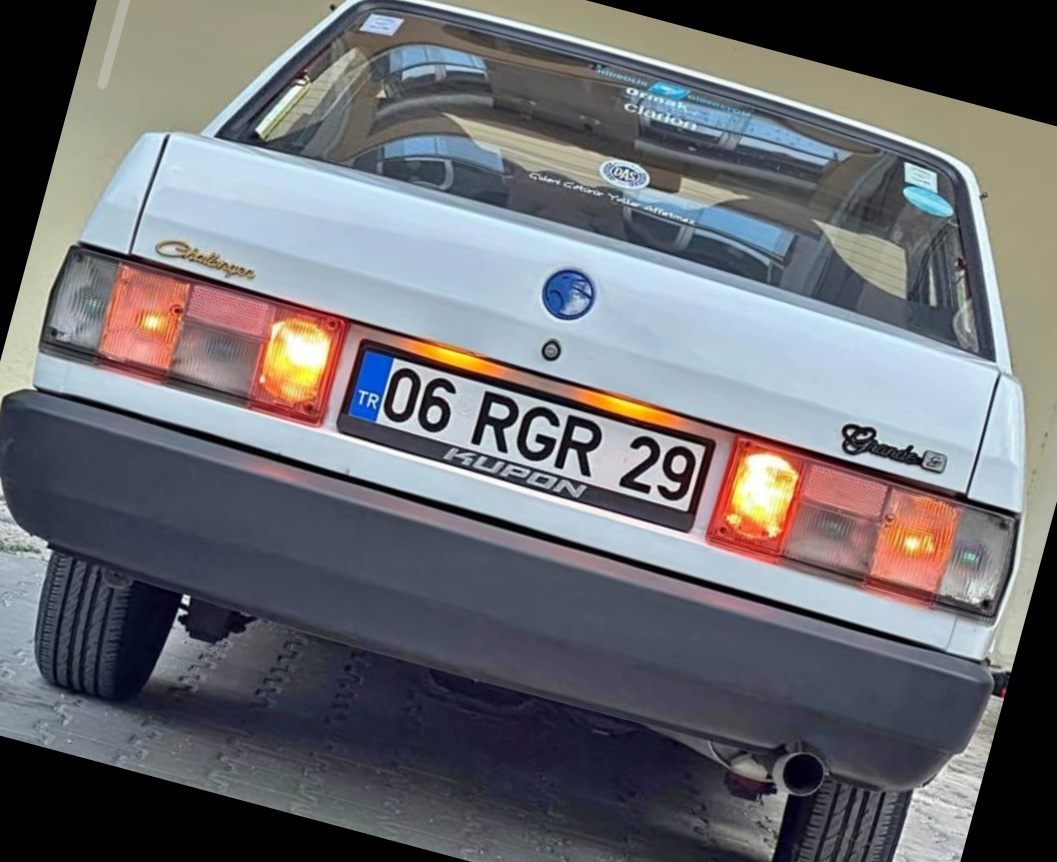plaka: (383, 339, 713, 515)
